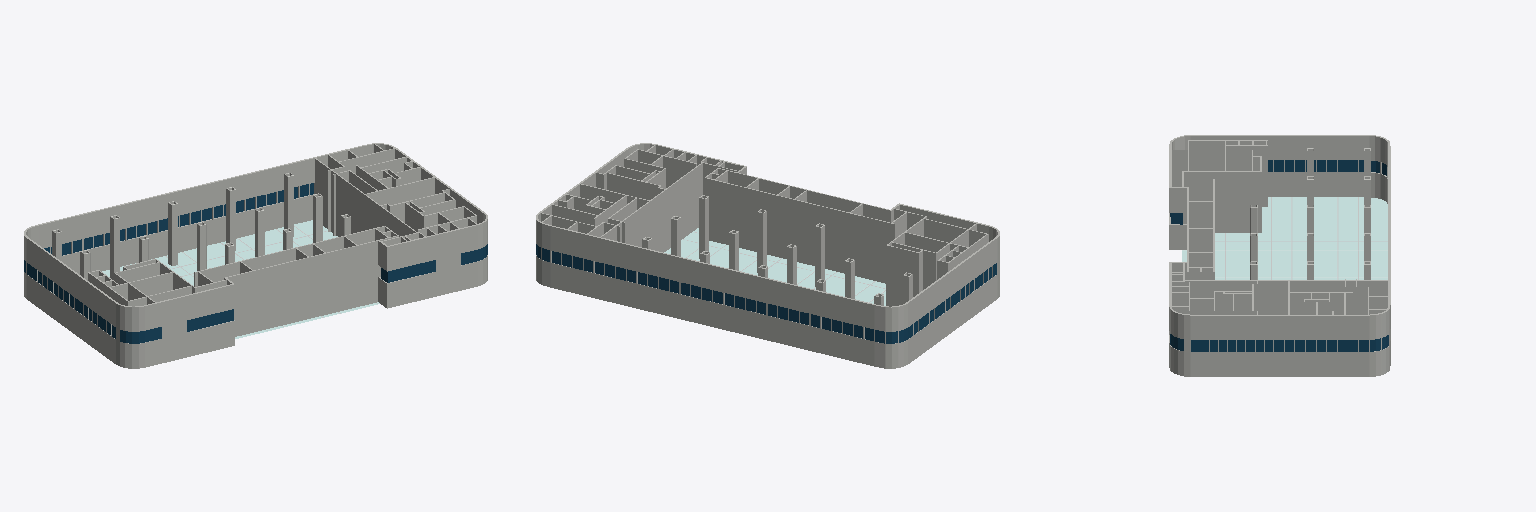
3 views of the same model, side by side, from view 1: azimuth 30°, elevation 25°; view 2: azimuth 150°, elevation 25°; view 3: azimuth 270°, elevation 25° (orthographic).
Bounding box in the file's own units: 22.73 × 3.61 × 11.77.
Materials: 1 (1 with a texture image).